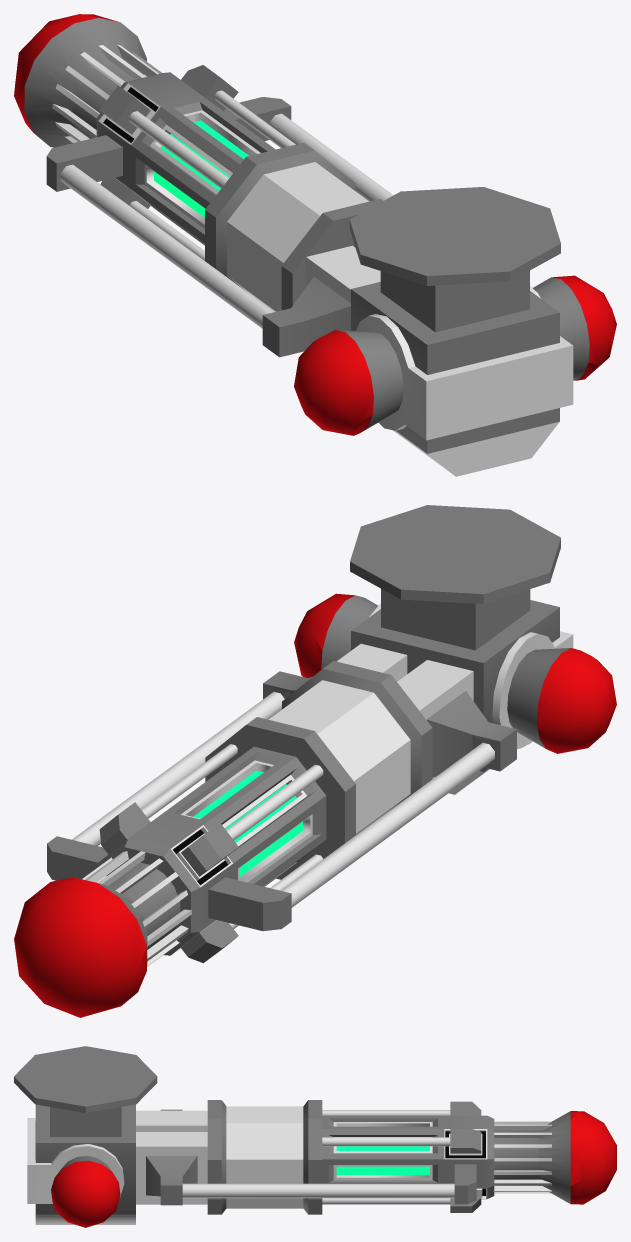
Rendered from 1_EMPWeapon1.fbx.
The picture shows the model from 3 angles, top to bottom: view 1: azimuth 30°, elevation 25°; view 2: azimuth 150°, elevation 25°; view 3: azimuth 270°, elevation 25°; orthographic projection. The views are drawn at different scales.
Parts seen in each view (by area): view 1: MiddleBarrel, MainBody, Sides, Mount, Front; view 2: MiddleBarrel, MainBody, Mount, Front, Sides; view 3: MiddleBarrel, MainBody, Front, Mount, Sides.
Part boxes in pixels (<box>): MiddleBarrel: <box>46,65,382,311</box>; MainBody: <box>60,113,559,476</box>; Sides: <box>294,275,616,440</box>; Mount: <box>349,187,560,332</box>; Front: <box>14,14,162,147</box>; MiddleBarrel: <box>47,661,432,963</box>; MainBody: <box>72,600,559,907</box>; Mount: <box>350,505,560,650</box>; Front: <box>14,851,191,1017</box>; Sides: <box>294,593,616,753</box>; MiddleBarrel: <box>207,1100,494,1214</box>; MainBody: <box>35,1104,454,1224</box>; Front: <box>493,1111,616,1204</box>; Mount: <box>14,1046,157,1136</box>; Sides: <box>27,1118,124,1227</box>.
Size of the model in its own units: 323 by 210 by 841.
